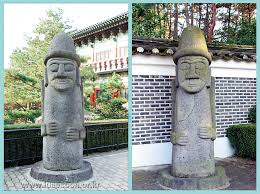Stone Statue: (152, 21, 239, 190), (28, 28, 100, 186)
